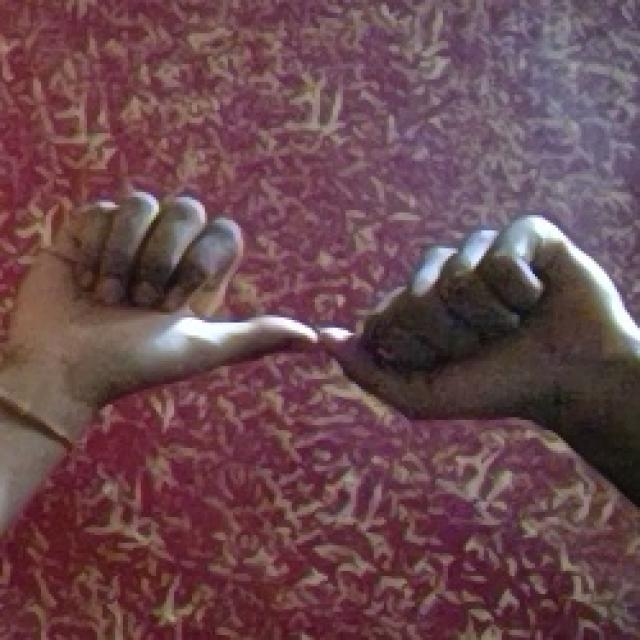Alphabet-A: (20, 195, 600, 438)
